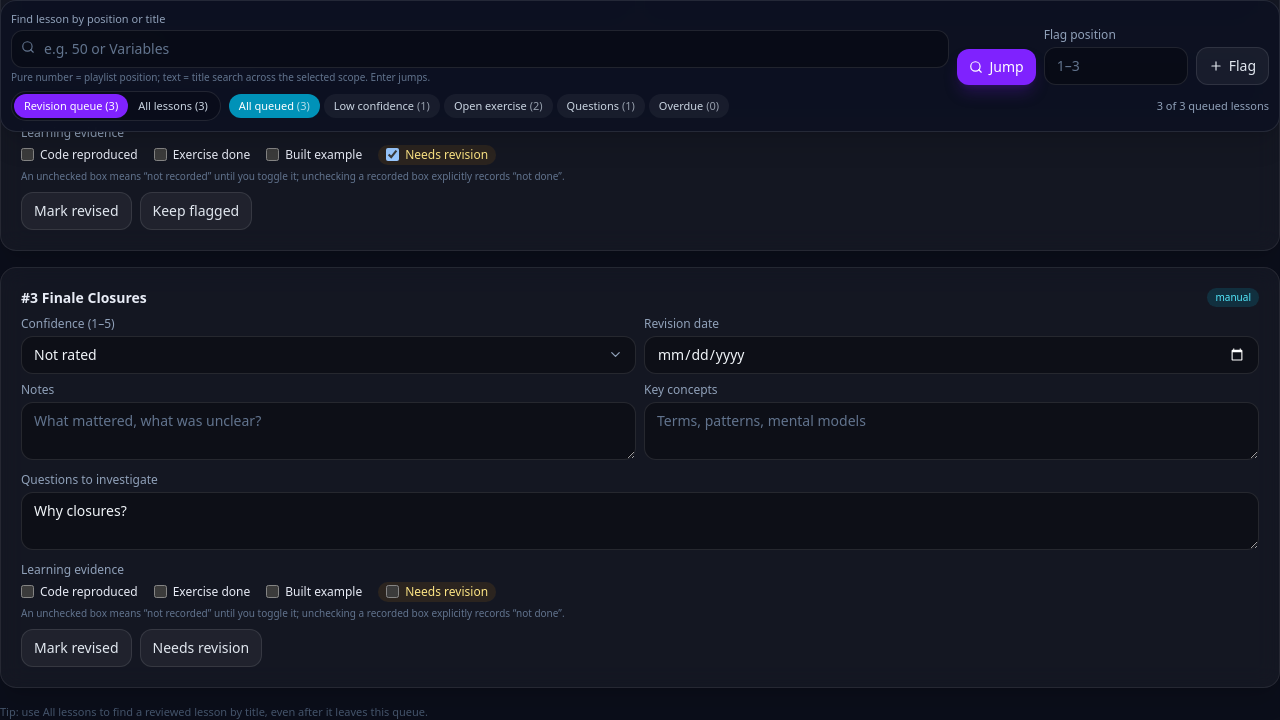
Scenario: Revision sticky toolbar, search, jump, and filters › preserves annotations and removes a revised lesson from the queue
(page scrolled)
Check: the text "3 of 3 queued lessons" is shown, box [1157, 98, 1269, 114]
Replace the text in the text box labelled "Questions to investigate" with "Why closures, exactly?" at (640, 521), box [21, 492, 1259, 550]
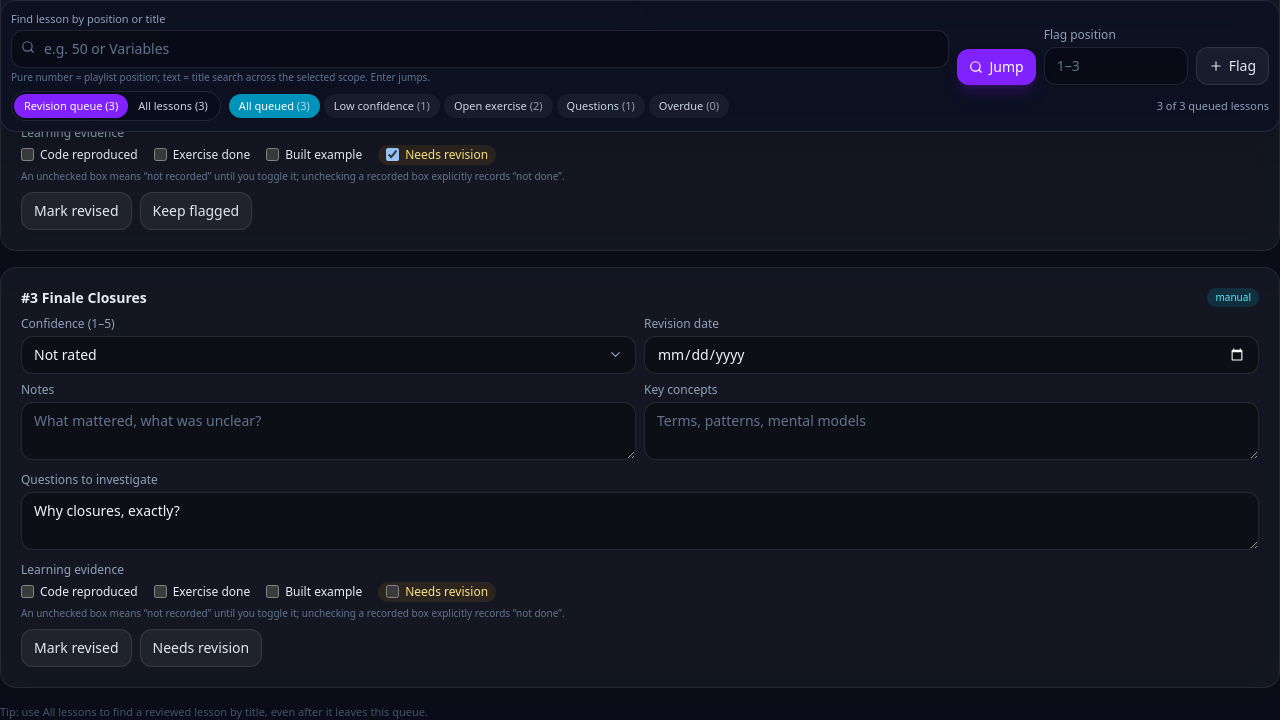
Check: the text "3 of 3 queued lessons" is shown, box [1157, 98, 1269, 114]
Click the 2nd button "Mark revised" at (76, 648), box [21, 629, 132, 667]
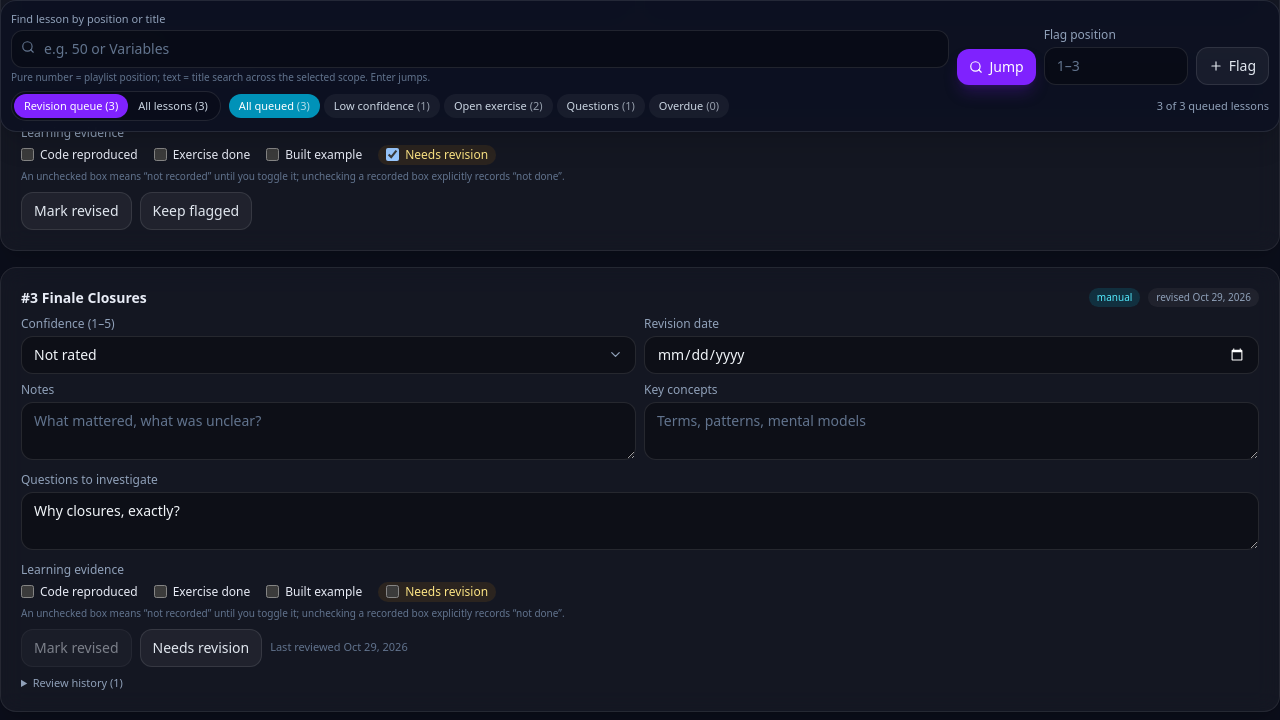
Check: the text "revised Oct 29, 2026" is shown, box [1148, 288, 1259, 307]
